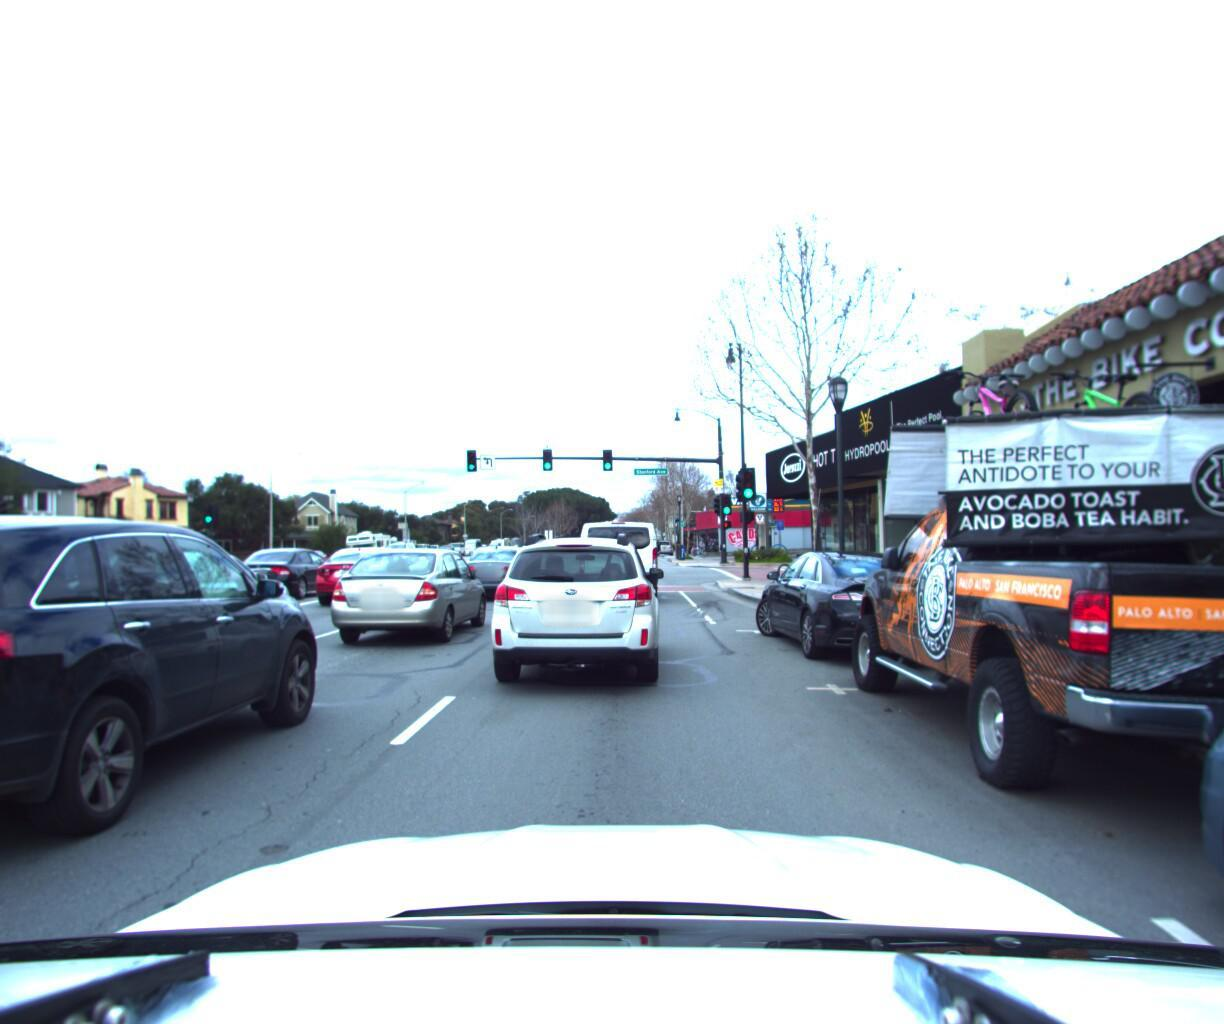car: (828, 212, 1224, 878), (0, 486, 338, 942), (30, 548, 312, 675), (473, 522, 668, 702), (747, 543, 973, 682), (324, 545, 502, 654), (309, 540, 424, 609), (579, 516, 664, 609), (228, 549, 350, 609), (440, 541, 544, 603), (658, 540, 678, 557)
other_vehicle: (344, 531, 400, 567)
